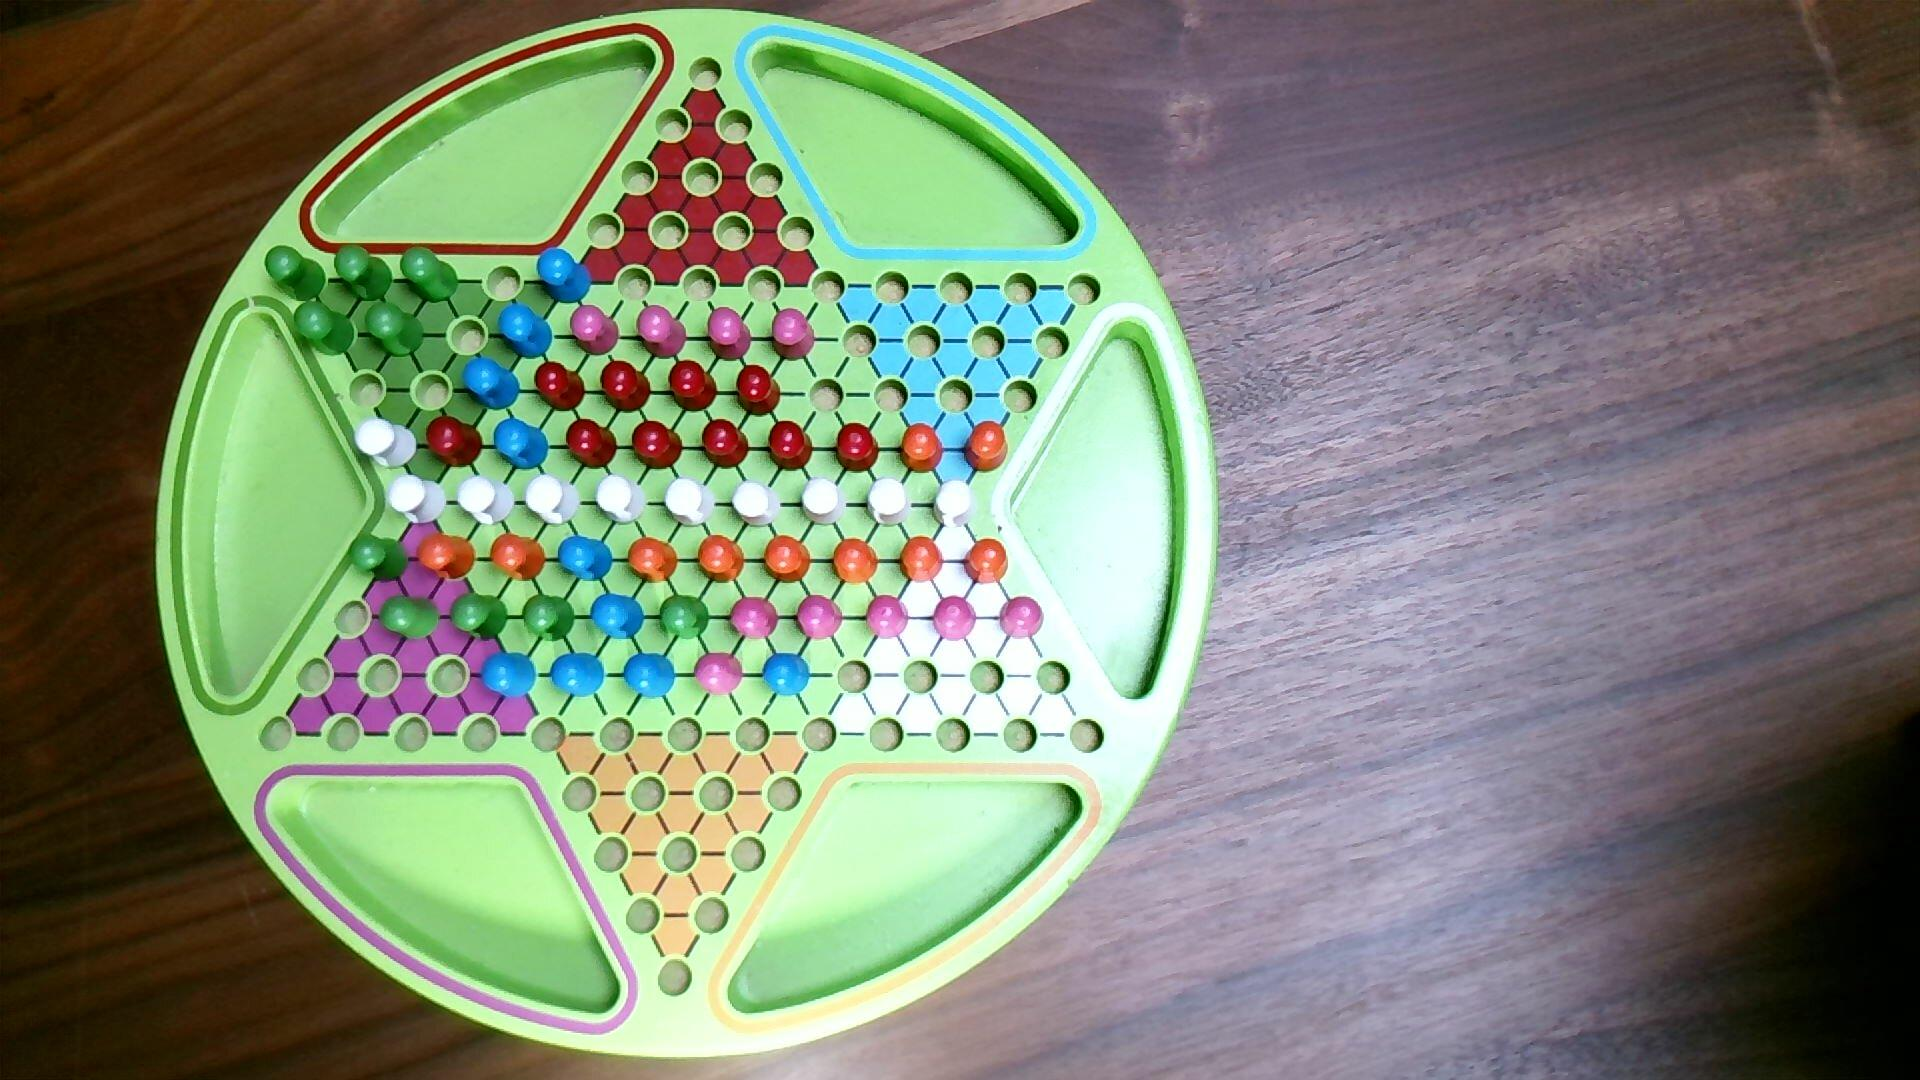B: (535, 247, 593, 307), (492, 417, 551, 473), (462, 357, 524, 411), (497, 303, 554, 361), (480, 650, 539, 702), (589, 593, 646, 644), (549, 651, 607, 700), (622, 651, 678, 702), (556, 535, 615, 583), (762, 651, 812, 699)
G: (262, 244, 328, 305), (334, 244, 394, 305), (364, 302, 427, 360), (293, 301, 357, 357), (400, 245, 460, 305), (347, 531, 411, 584), (448, 591, 510, 644), (378, 592, 442, 644), (522, 592, 578, 644), (657, 593, 712, 644)
O: (415, 531, 479, 582), (489, 531, 549, 584), (963, 419, 1011, 475), (626, 537, 680, 585), (764, 534, 814, 585), (899, 422, 945, 476), (698, 535, 746, 585), (963, 537, 1011, 585), (832, 537, 881, 585), (898, 535, 945, 585)
R: (425, 414, 485, 469), (564, 417, 620, 471), (600, 359, 653, 415), (533, 360, 587, 413), (667, 359, 719, 414), (632, 419, 684, 472), (702, 418, 752, 471), (735, 363, 782, 418), (833, 422, 882, 475), (767, 419, 815, 473)
R2: (636, 305, 688, 361), (570, 305, 621, 357), (707, 307, 753, 363), (692, 651, 745, 699), (728, 595, 781, 641), (771, 309, 816, 363), (796, 593, 844, 642), (932, 593, 978, 642), (865, 593, 911, 641), (1000, 595, 1046, 641)
W: (353, 418, 419, 471), (385, 473, 448, 527), (524, 473, 583, 527), (458, 476, 517, 527), (593, 473, 647, 526), (663, 476, 717, 527), (930, 479, 978, 531), (865, 477, 913, 529), (799, 477, 848, 526), (731, 481, 782, 527)
